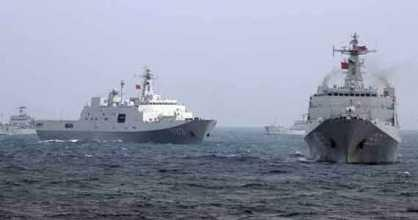warship: (31, 62, 222, 144), (297, 29, 405, 166)
